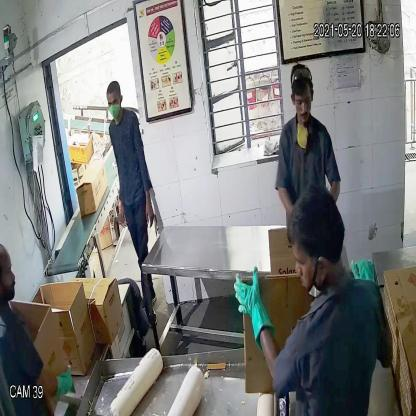no_goggles: (288, 89, 316, 110)
